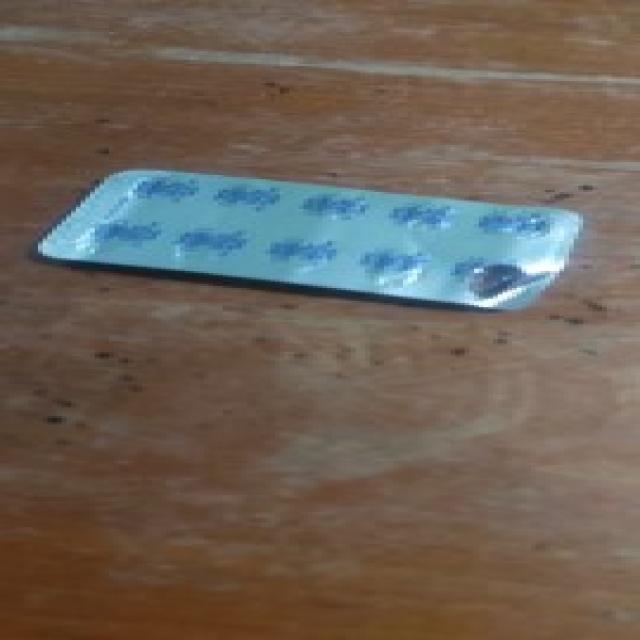Cacat: (21, 170, 574, 315)
Kemasan: (445, 255, 545, 297)
